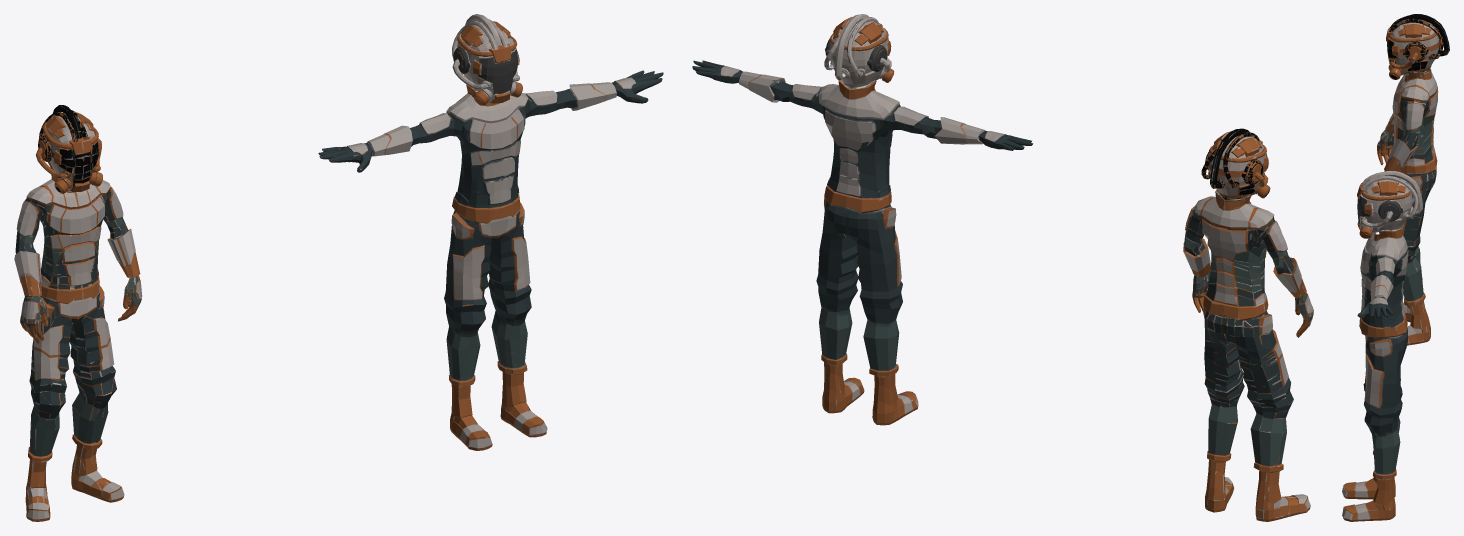
Rendered from Fit_3.obj.
3 views of the same model, side by side, from view 1: azimuth 30°, elevation 25°; view 2: azimuth 150°, elevation 25°; view 3: azimuth 270°, elevation 25° (orthographic). The views are drawn at different scales.
Visible parts, largest first — view 1: SpaceSuit_Legs.001, SpaceSuit_Legs; view 2: SpaceSuit_Legs.001, SpaceSuit_Legs; view 3: SpaceSuit_Legs.001, SpaceSuit_Legs.
Part boxes in pixels (<box>): SpaceSuit_Legs.001: <box>318,14,663,450</box>; SpaceSuit_Legs: <box>14,105,142,521</box>; SpaceSuit_Legs.001: <box>692,14,1033,425</box>; SpaceSuit_Legs: <box>1183,128,1313,521</box>; SpaceSuit_Legs.001: <box>1342,171,1422,521</box>; SpaceSuit_Legs: <box>1377,14,1449,345</box>.
Size of the model in its own units: 6.17 by 3.77 by 1.1.
